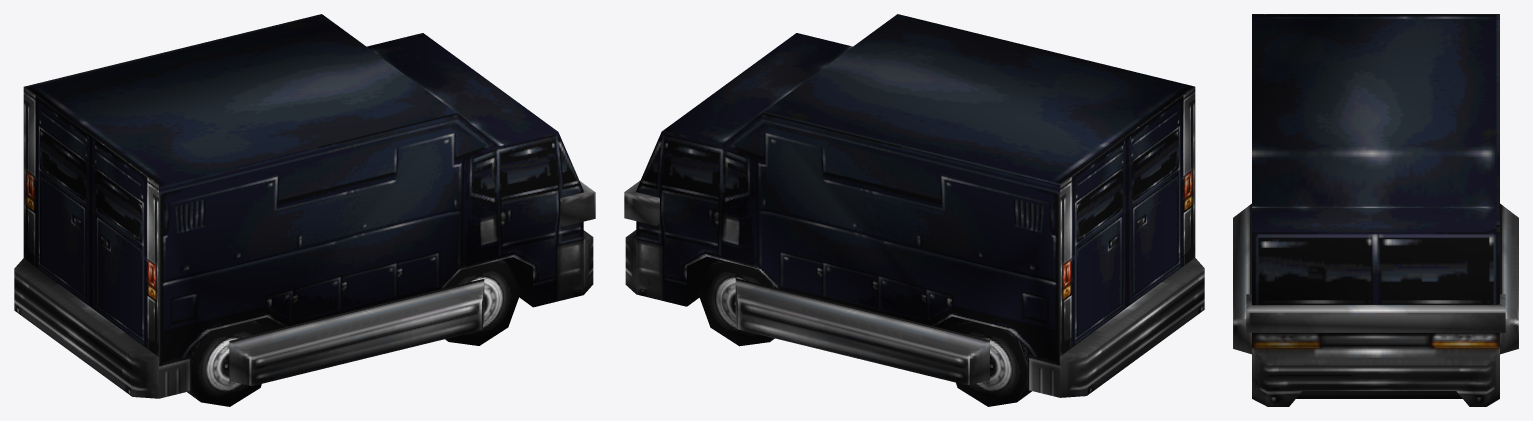
Rendered from leger.obj.
The picture shows the model from 3 angles, left to right: view 1: azimuth 30°, elevation 25°; view 2: azimuth 150°, elevation 25°; view 3: azimuth 270°, elevation 25°; orthographic projection. The views are drawn at different scales.
Parts seen in each view (by area): view 1: Group; view 2: Group; view 3: Group.
Part boxes in pixels (box(x1,y1,x2,y2)): Group: box(14, 14, 595, 406); Group: box(624, 14, 1204, 406); Group: box(1233, 14, 1518, 406).
Bounding box in the file's own units: 194 × 99.27 × 114.
